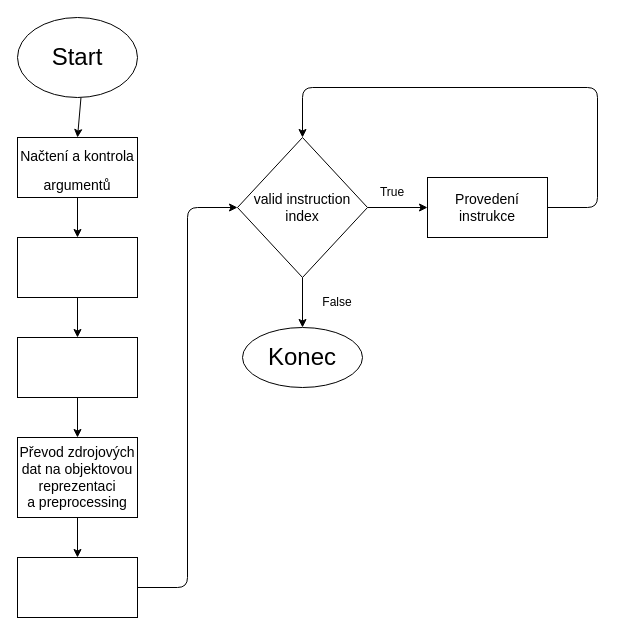
This 623x635 diagram has some shape labels left out. The centre of each missing label's shape, as x and y in pixels:
"Kontrola hlavičky zdrojových dat" belongs at point 77,367.
"Načtení vstupních dat" belongs at point 77,267.
"Vytvoření interpretačních objektů" belongs at point 77,587.
